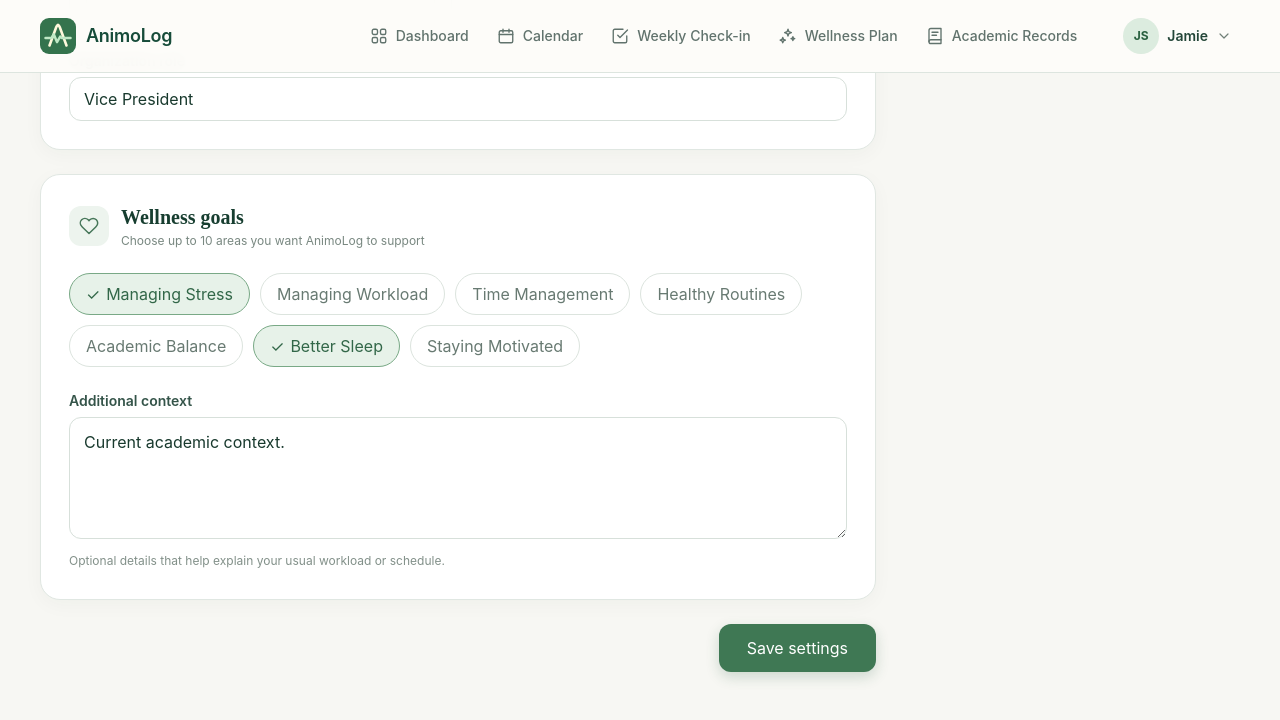
Settings backend data › prevents duplicate saves while both updates are pending
(page scrolled)
Click the button "Save settings" at (797, 648), box [719,624,876,672]
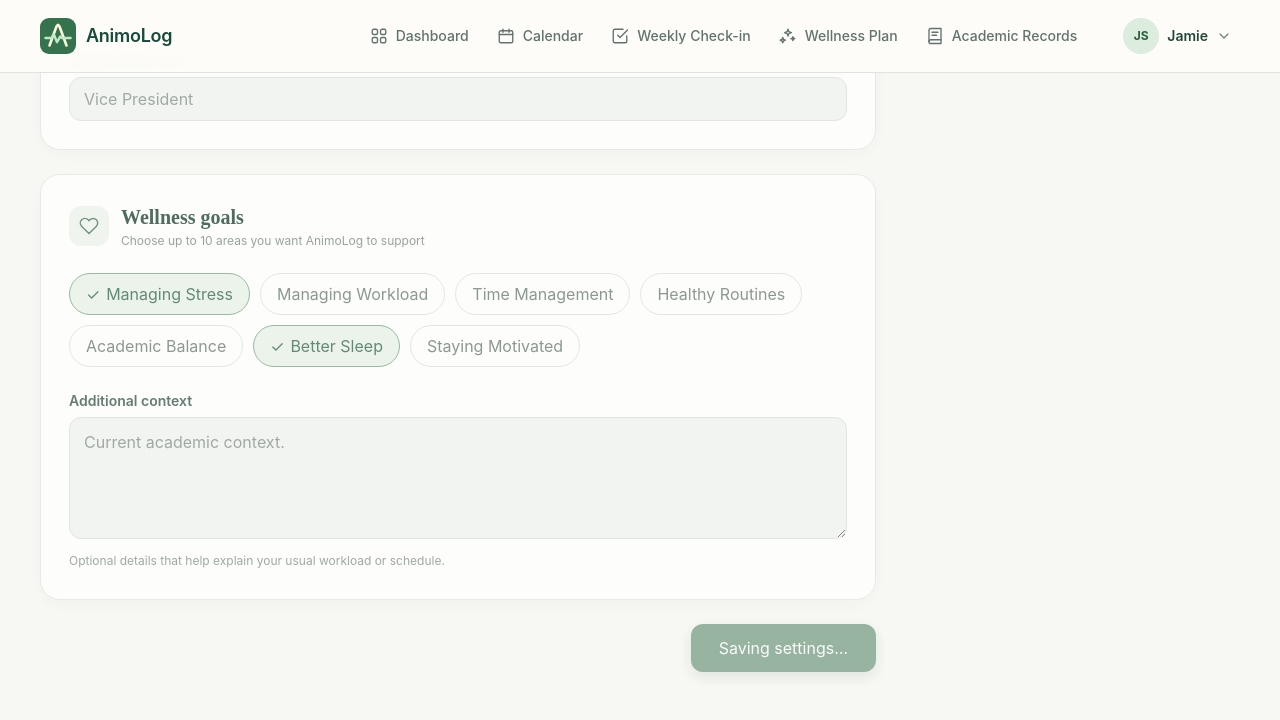
Now the button "Saving settings…" is disabled
Click the button "Saving settings…" at (783, 648), box [691,624,876,672]
(page scrolled)
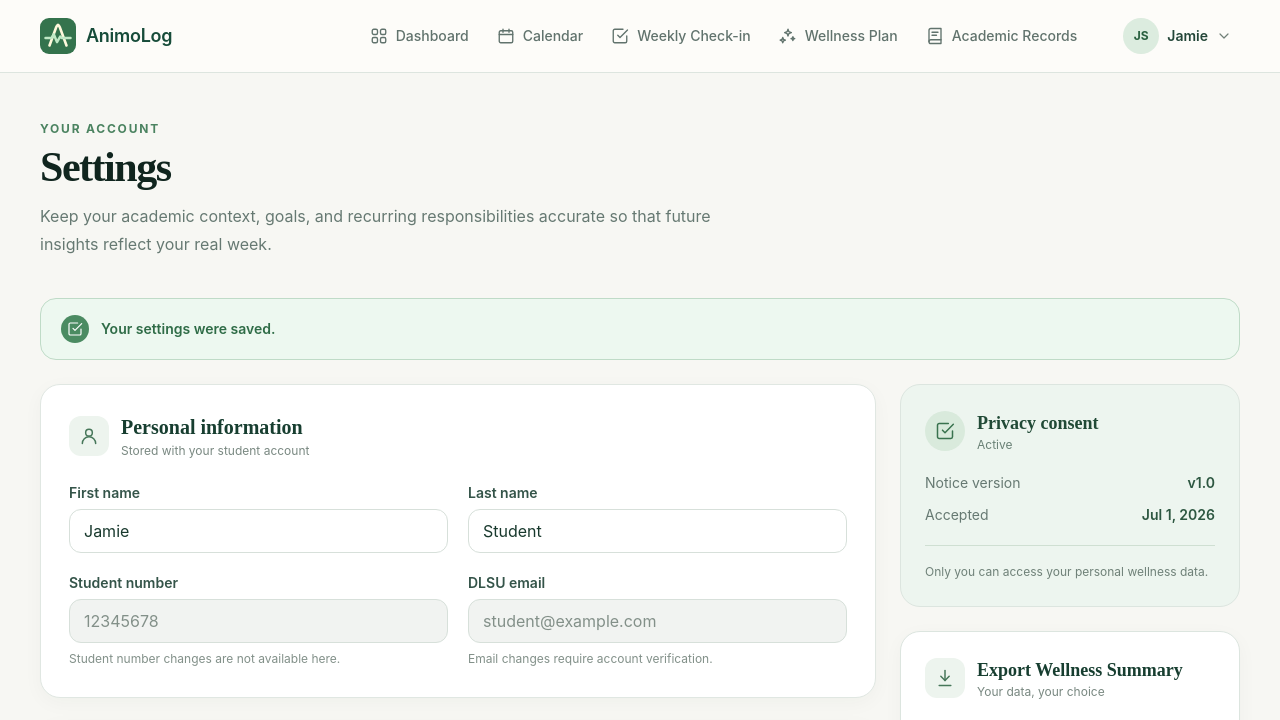
Now the text "Your settings were saved." is shown, box [40,298,1240,360]
